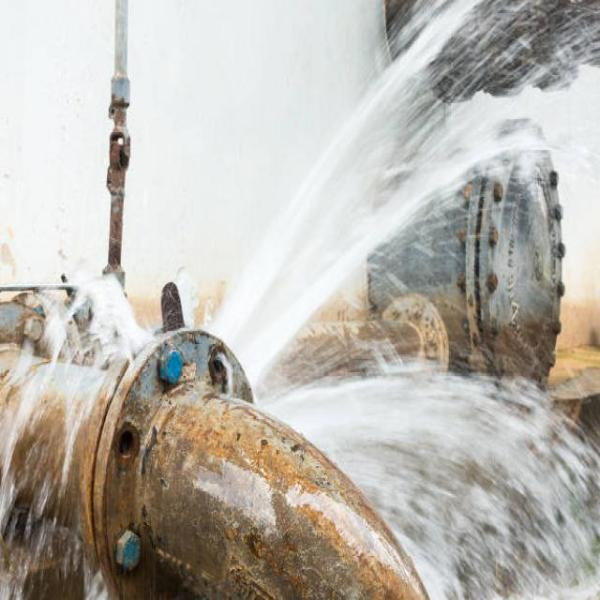gas: (68, 191, 322, 538)
